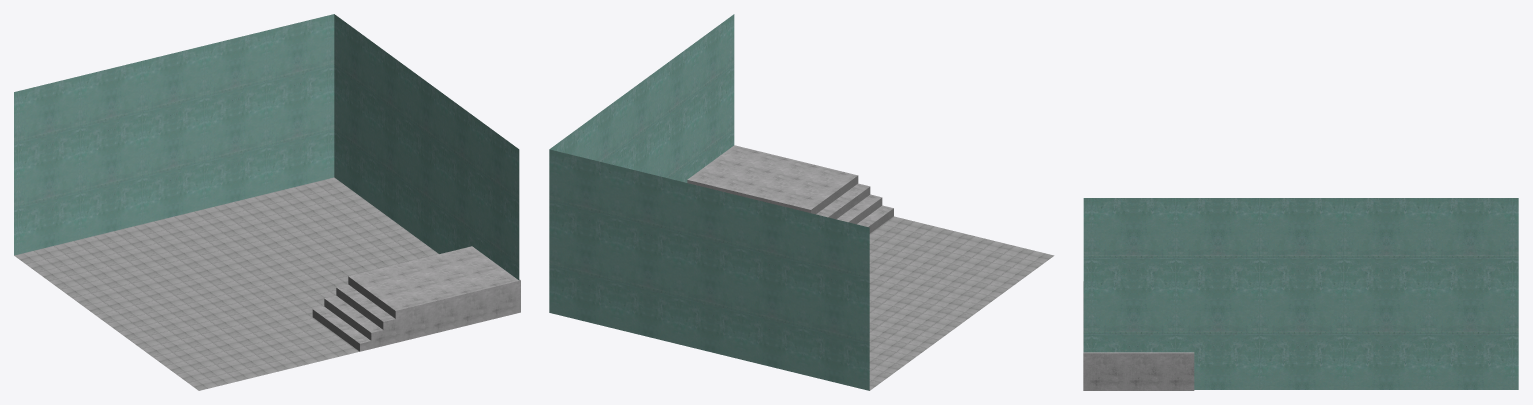
File: example.glb
3 renders of one model, left to right at view 1: azimuth 30°, elevation 25°; view 2: azimuth 150°, elevation 25°; view 3: azimuth 270°, elevation 25°, orthographic. The views are drawn at different scales.
Visible parts, largest first — view 1: example; view 2: example; view 3: example.
Boxes of the visible parts, box(x1,y1,x2,y2) form: example: box(14, 14, 520, 390); example: box(549, 14, 1054, 390); example: box(1083, 198, 1518, 390).
Size of the model in its own units: 4.48 by 2.17 by 4.46.
4 materials, 4 textured.
